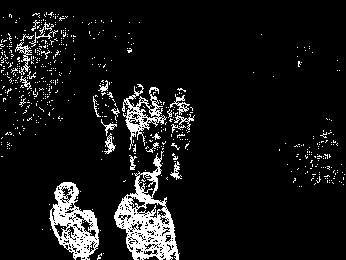person: (114, 171, 179, 260), (49, 182, 102, 260), (166, 86, 194, 181), (122, 82, 149, 171), (92, 78, 120, 156), (145, 85, 167, 179)
